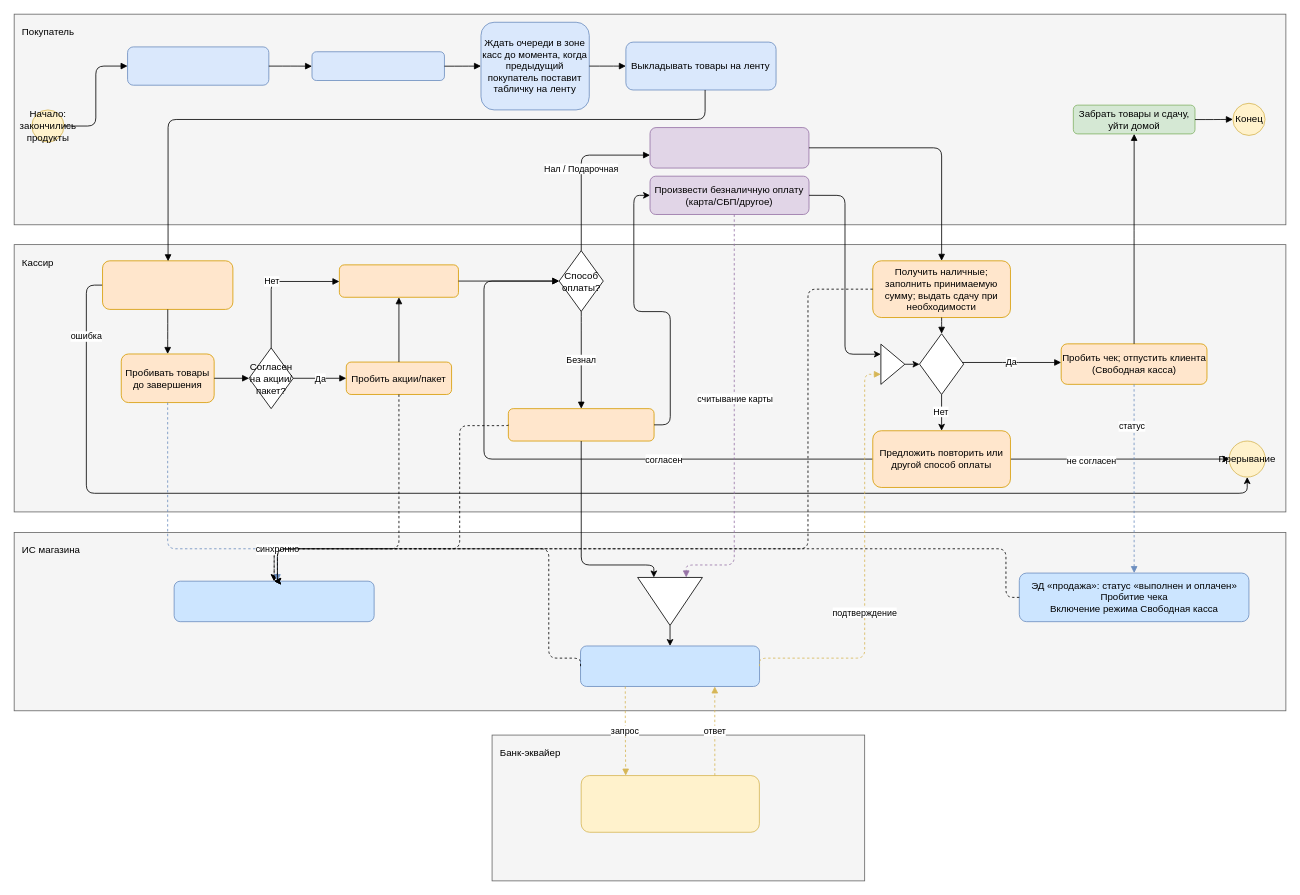
The diagram is 1300 pixels wide and 895 high, and some of its shapes have lost their labels. The centre of each missing label's shape, as x and y in pixels:
Инициировать безналичный режим: (x=581, y=424)
Начать обслуживание; создать ЭД "продажа" (ошибка — прерывание): (x=167, y=284)
Озвучить сумму к оплате: (x=398, y=280)
Передать наличные/подарочную карту кассиру: (x=729, y=147)
Подбирать товары по списку: (x=377, y=66)
Покупка полностью оплачена?: (x=941, y=363)
Прийти в магазин, взять корзинку и войти в торговый зал: (x=198, y=65)
Проверка баланса и подтверждение оплаты (транзакционный обмен): (x=669, y=803)
Сформировать запрос безналичной оплаты; установить связь с эквайером: (x=670, y=665)
Транзакционно отражать действия в ЭД "продажа" (для восстановления при сбое): (x=273, y=601)
